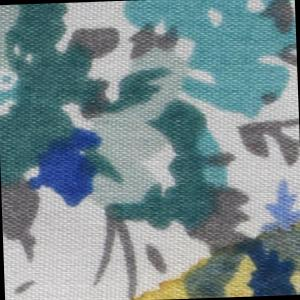Oil Stain: (125, 220, 300, 300)
